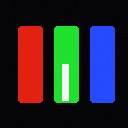4 line_v: (62, 64, 68, 100)
